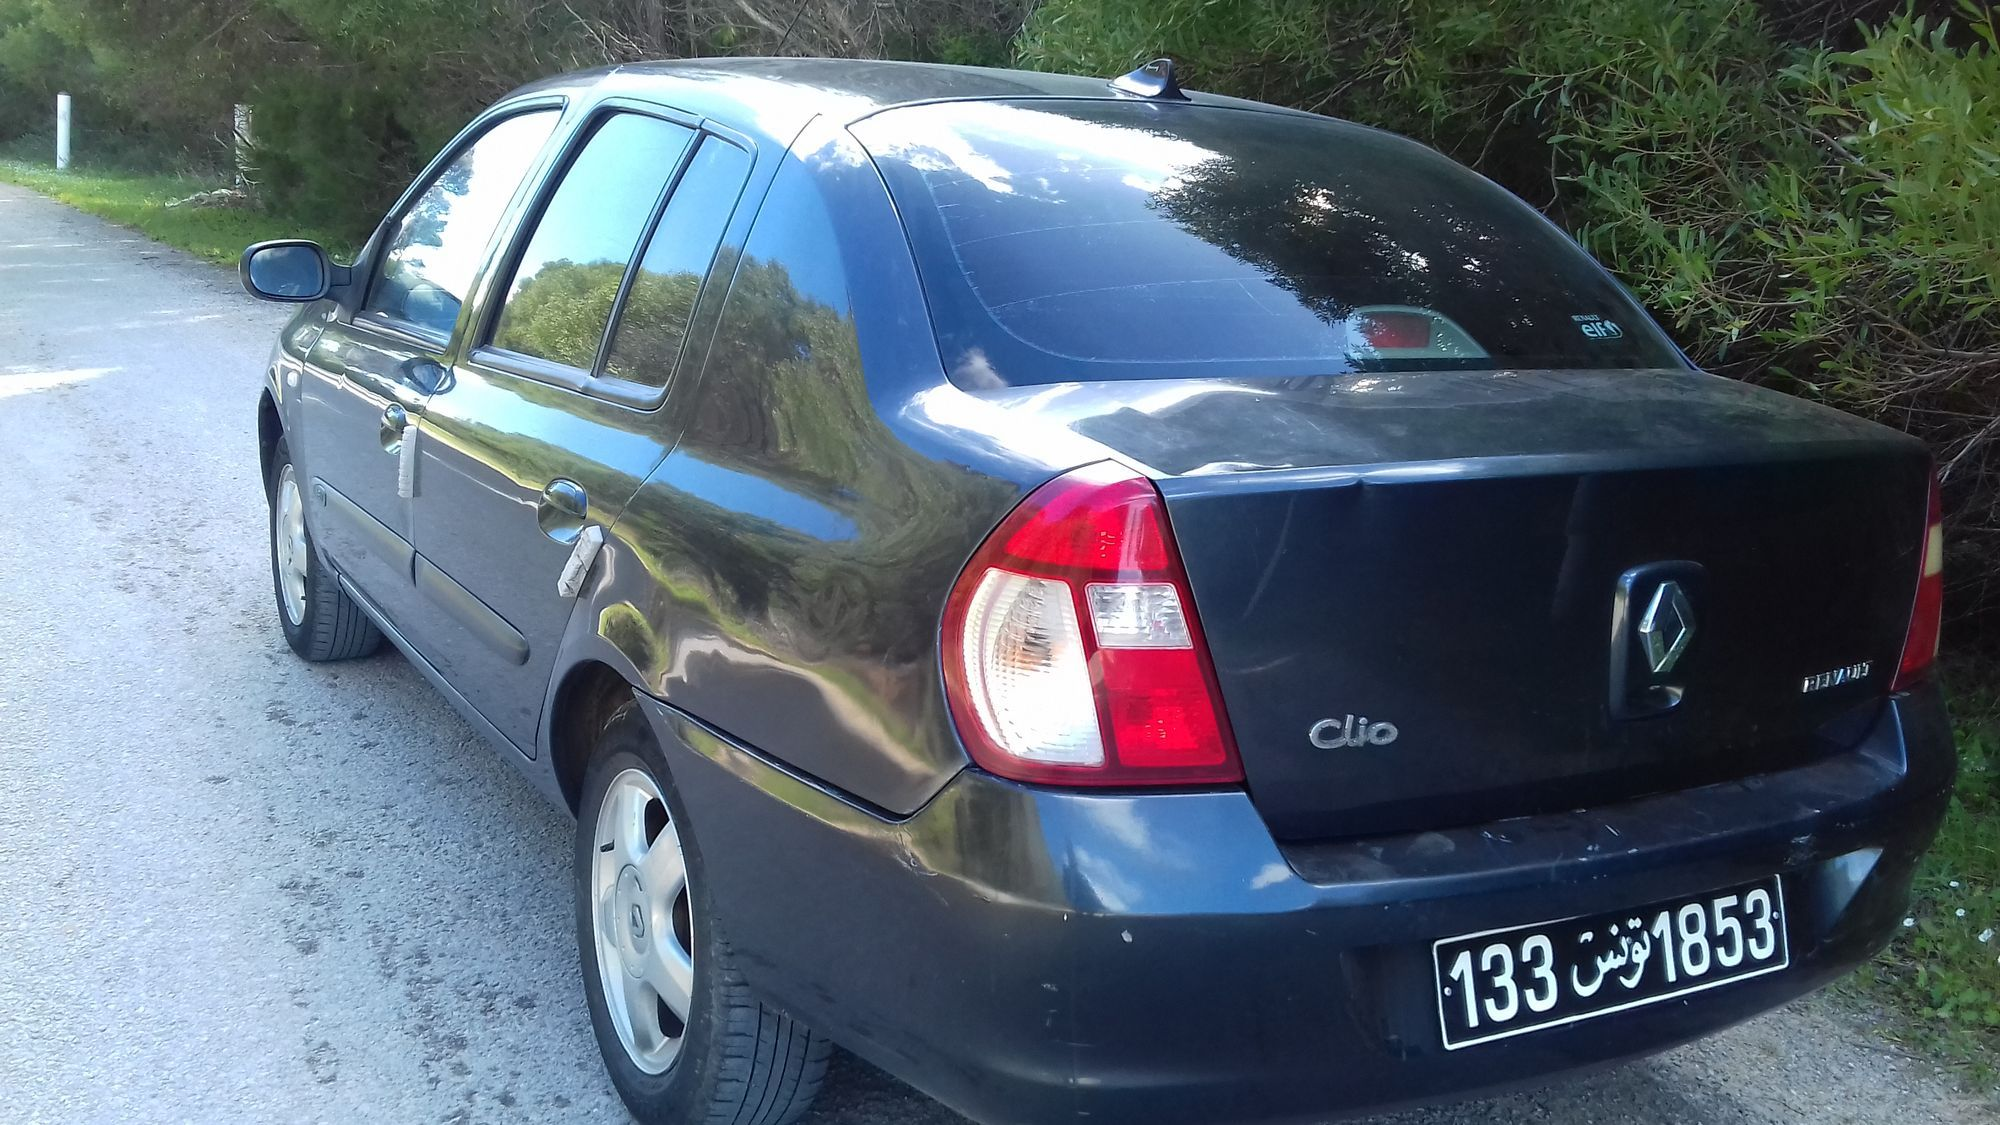LP: (1425, 858, 1786, 1043)
